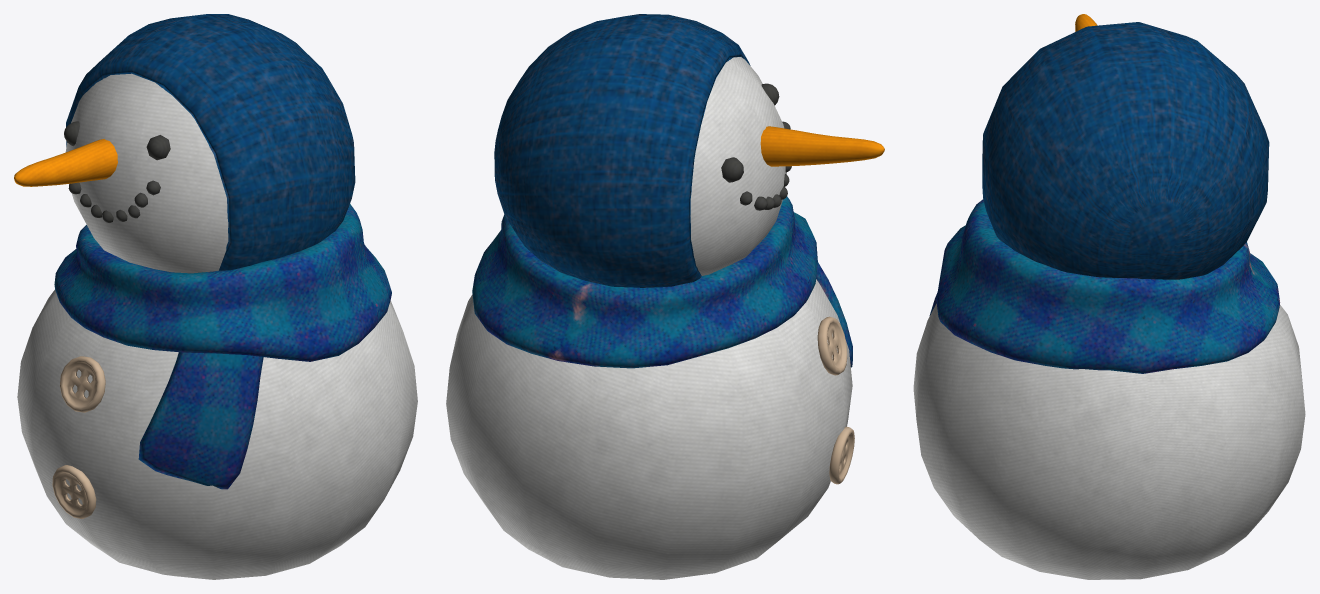
Rendered from snowman_2.glb.
The picture shows the model from 3 angles, left to right: view 1: azimuth 30°, elevation 25°; view 2: azimuth 150°, elevation 25°; view 3: azimuth 270°, elevation 25°; orthographic projection. The views are drawn at different scales.
Visible parts, largest first — view 1: polySurface23, polySurface21, polySurface18.001, polySurface19.001, polySurface20, polySurface26, polySurface9.001, polySurface25; view 2: polySurface23, polySurface18.001, polySurface21, polySurface19.001, polySurface20, polySurface26, polySurface9.001, polySurface25; view 3: polySurface23, polySurface18.001, polySurface21.
Part boxes in pixels (x1,y1,x2,y2): polySurface23: (17,73,417,579); polySurface21: (54,204,391,489); polySurface18.001: (66,14,355,270); polySurface19.001: (14,139,117,186); polySurface20: (60,356,105,412); polySurface26: (52,465,96,518); polySurface9.001: (68,180,160,222); polySurface25: (64,121,170,160); polySurface23: (446,57,852,579); polySurface18.001: (494,14,750,287); polySurface21: (472,196,852,368); polySurface19.001: (760,126,884,166); polySurface20: (817,316,847,375); polySurface26: (829,426,854,484); polySurface9.001: (740,121,791,210); polySurface25: (721,83,779,182); polySurface23: (913,303,1305,579); polySurface18.001: (982,22,1269,279); polySurface21: (929,199,1280,373).
Bounding box in the file's own units: 0.2938 × 0.3671 × 0.2596.
2 materials, 2 textured.
